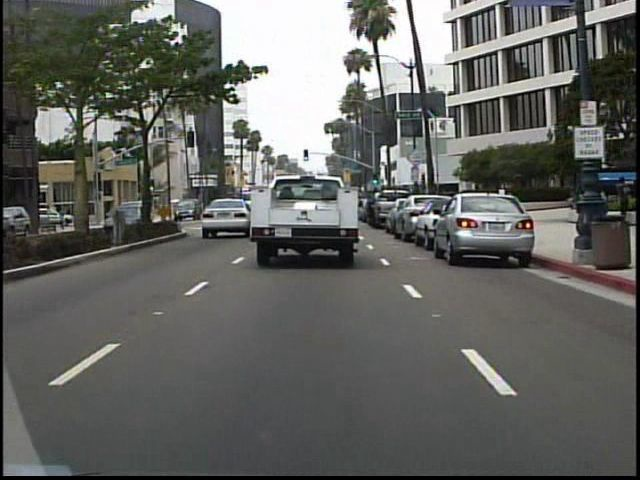person: (613, 173, 632, 219)
